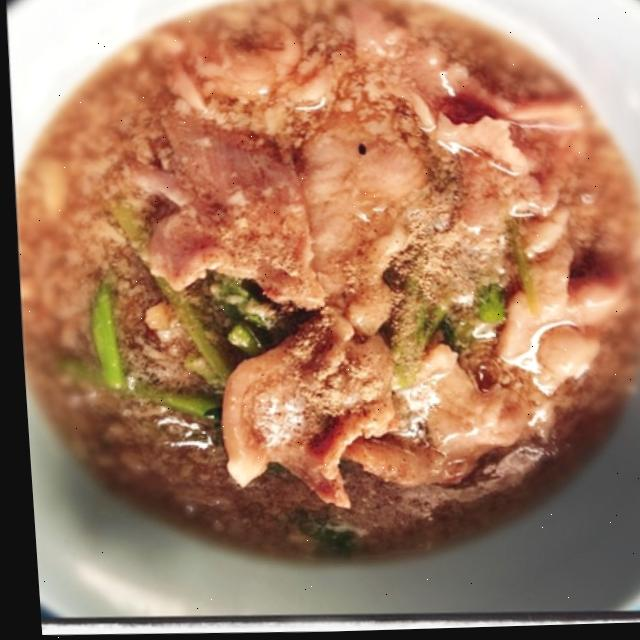面条主食: (0, 0, 640, 595)
